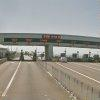Bridge: (5, 21, 99, 52)
